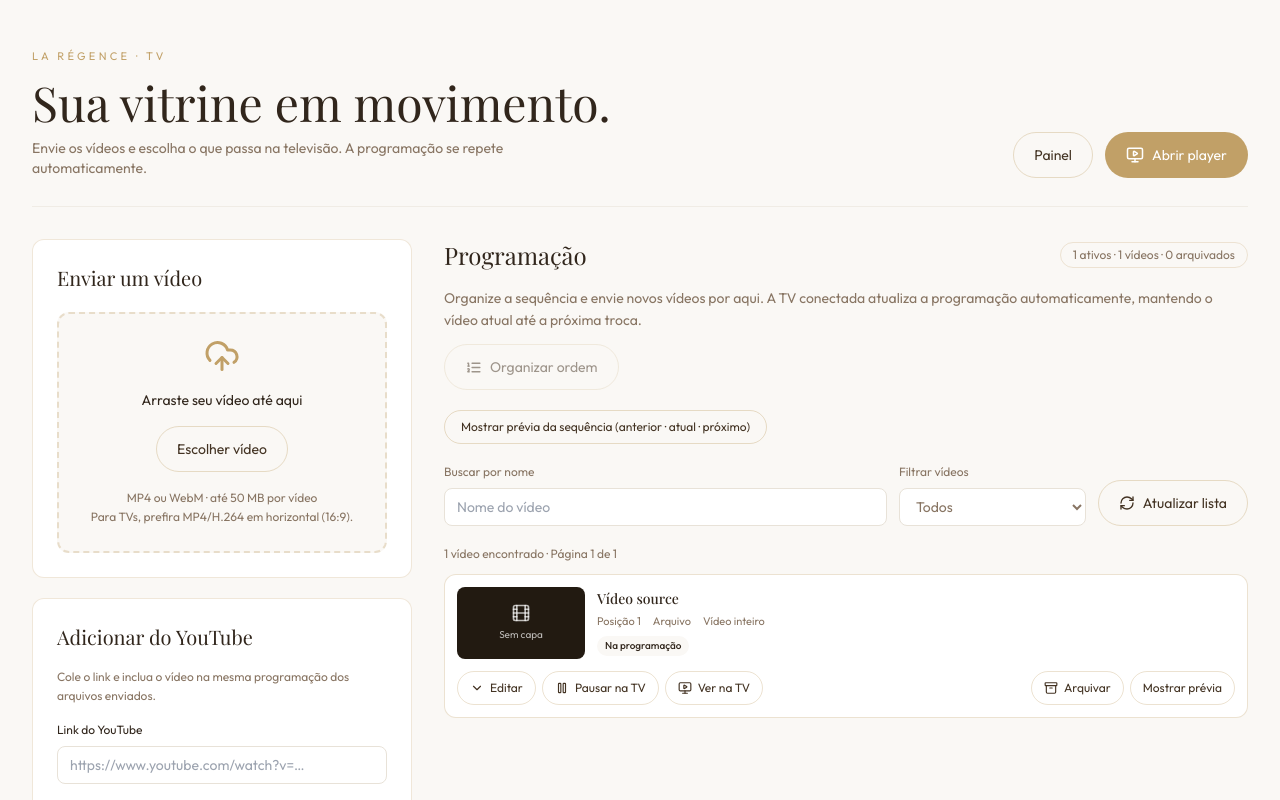
it: shows an HTTPS source link and plain-text credit without altering saved metadata
Click the button "Editar": (496, 688) [457,671,536,705]
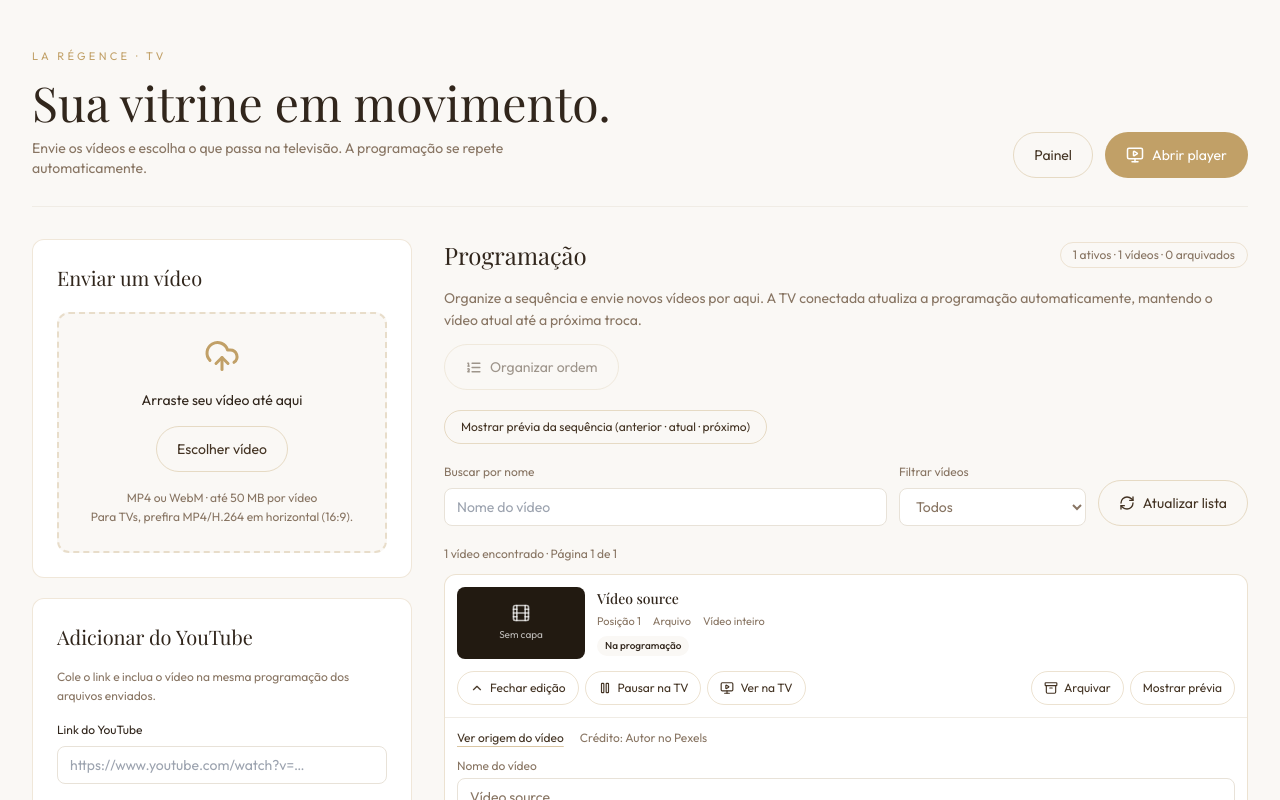
Expected: the text "Crédito: Autor no Pexels" is shown, [580,730,707,746]
